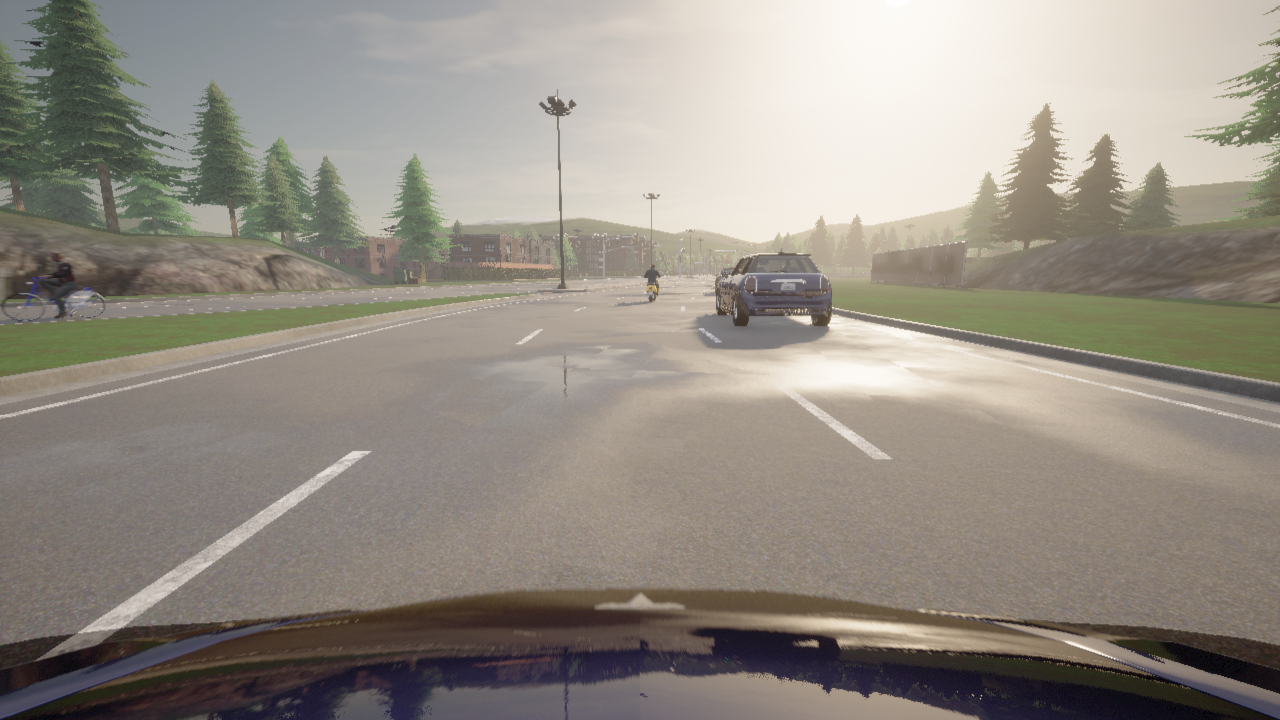cyclist: (0, 588, 1279, 719), (716, 248, 831, 326), (2, 277, 104, 321), (643, 273, 662, 302), (714, 268, 733, 292)
